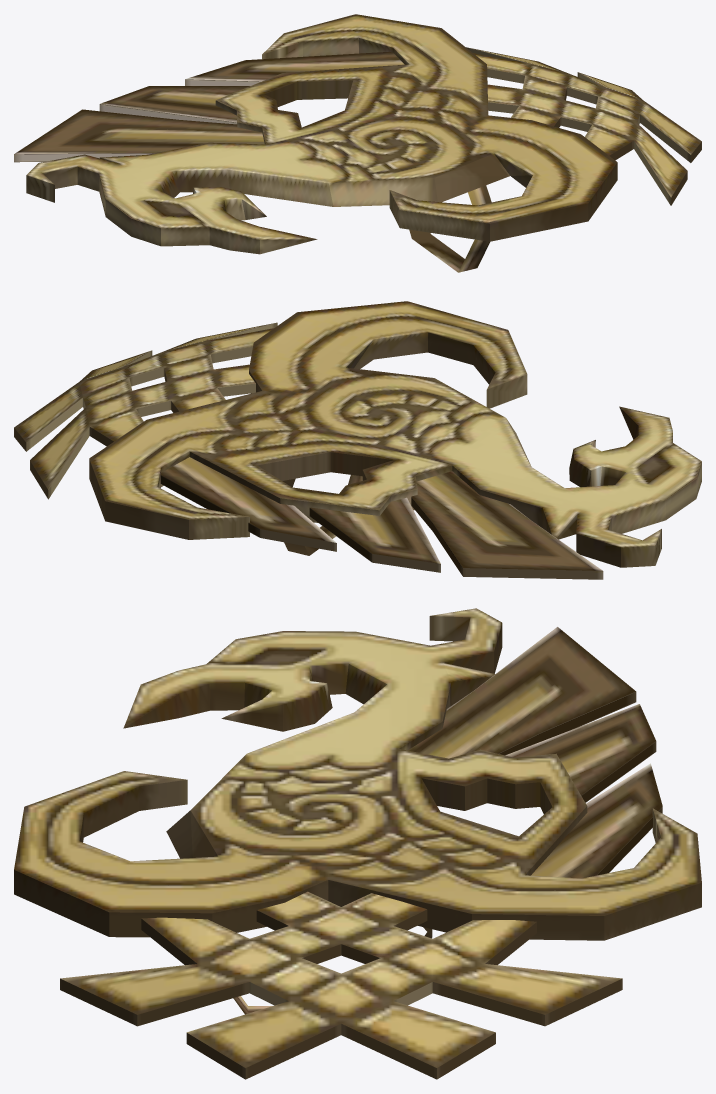
Rendered from shield0056.fbx.
The picture shows the model from 3 angles, top to bottom: view 1: azimuth 30°, elevation 25°; view 2: azimuth 150°, elevation 25°; view 3: azimuth 270°, elevation 25°; orthographic projection. The views are drawn at different scales.
Parts seen in each view (by area): view 1: shield0056_m; view 2: shield0056_m; view 3: shield0056_m.
Part boxes in pixels (box(x1,y1,x2,y2)): shield0056_m: box(14, 14, 701, 272); shield0056_m: box(14, 301, 701, 579); shield0056_m: box(14, 608, 701, 1079).
Bounding box in the file's own units: 0.563 × 0.1105 × 0.4159.
